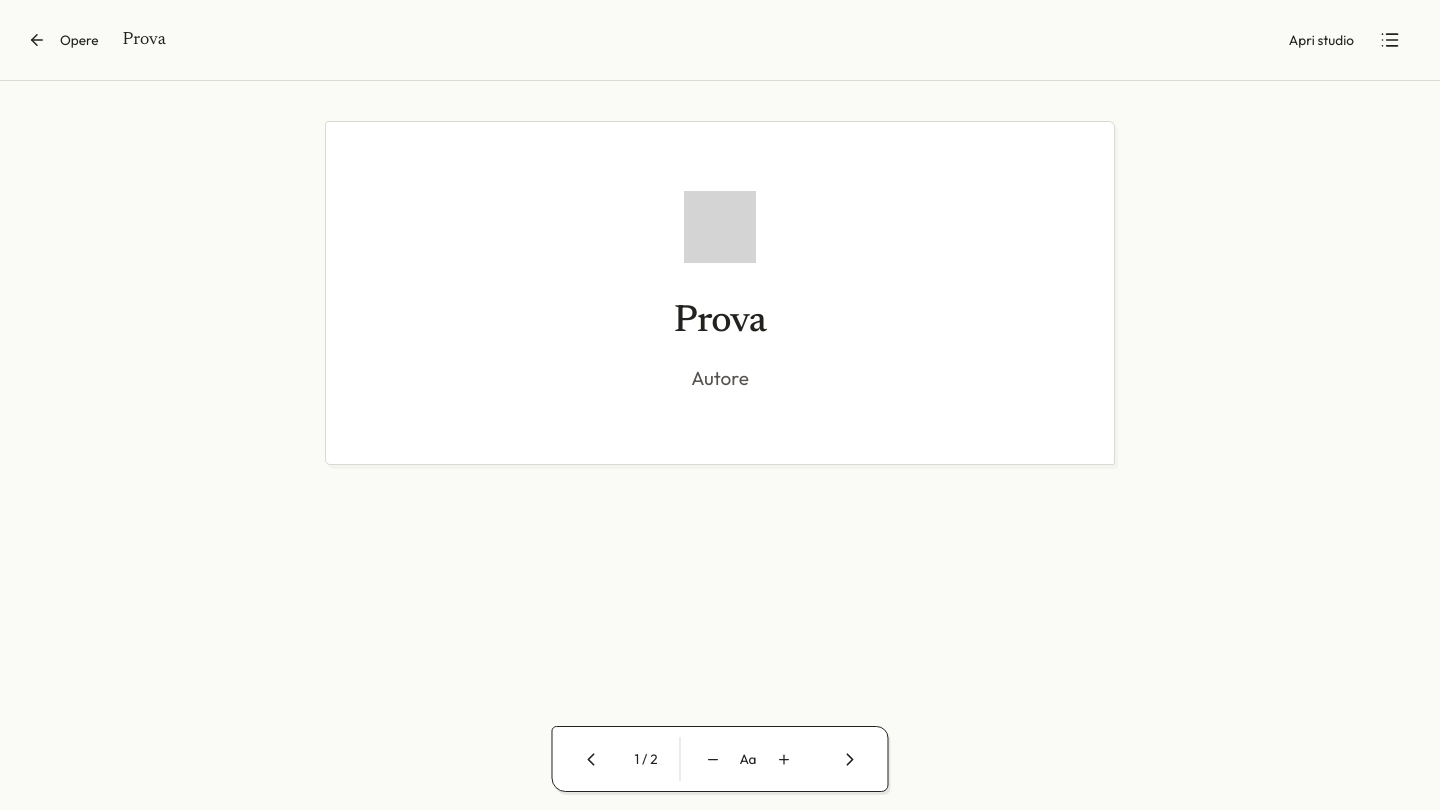
Test case: renders Markdown without inserting model-generated HTML
Click the button named "Pagina successiva".
click(850, 759)  # box [828,737,872,781]
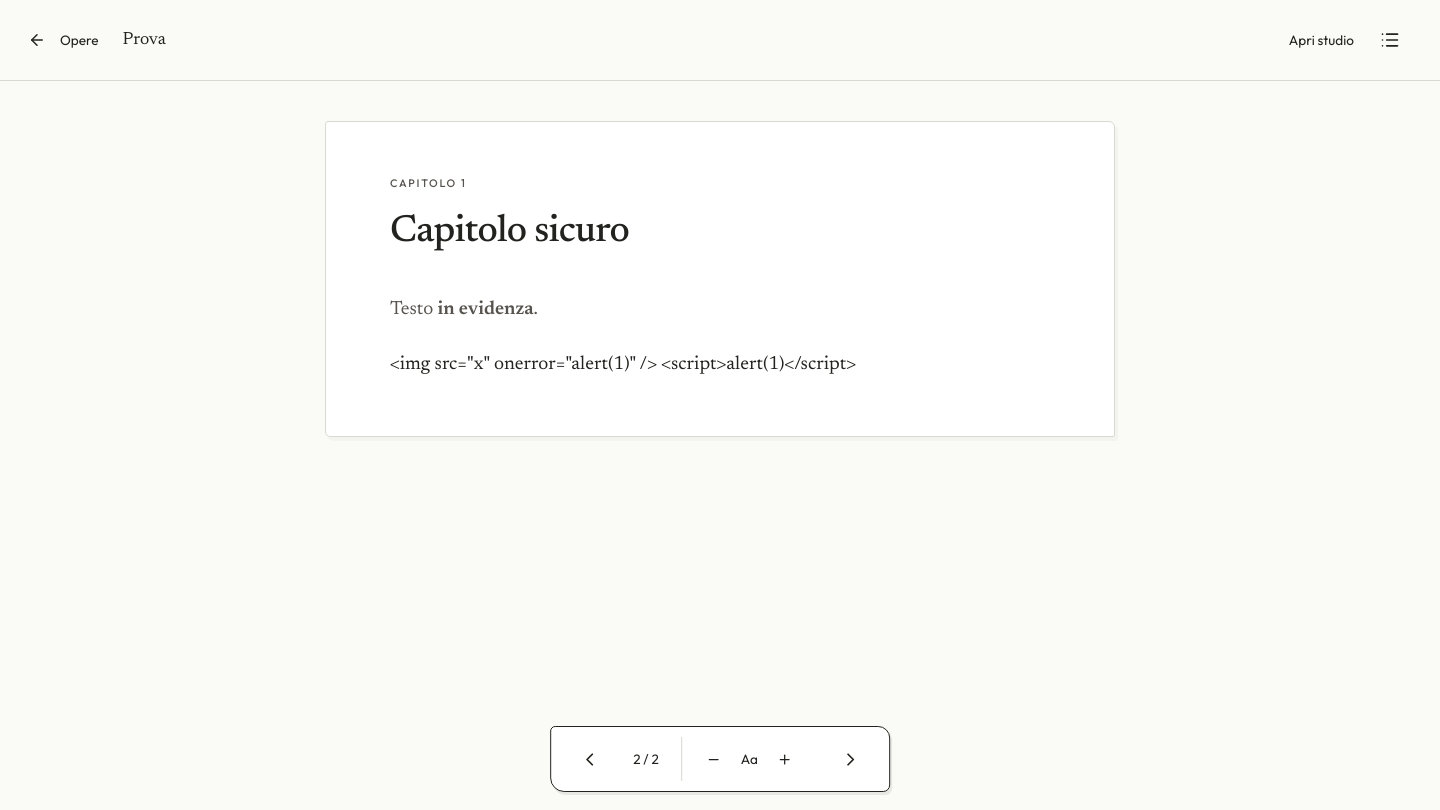
expect the picture is gone: met
